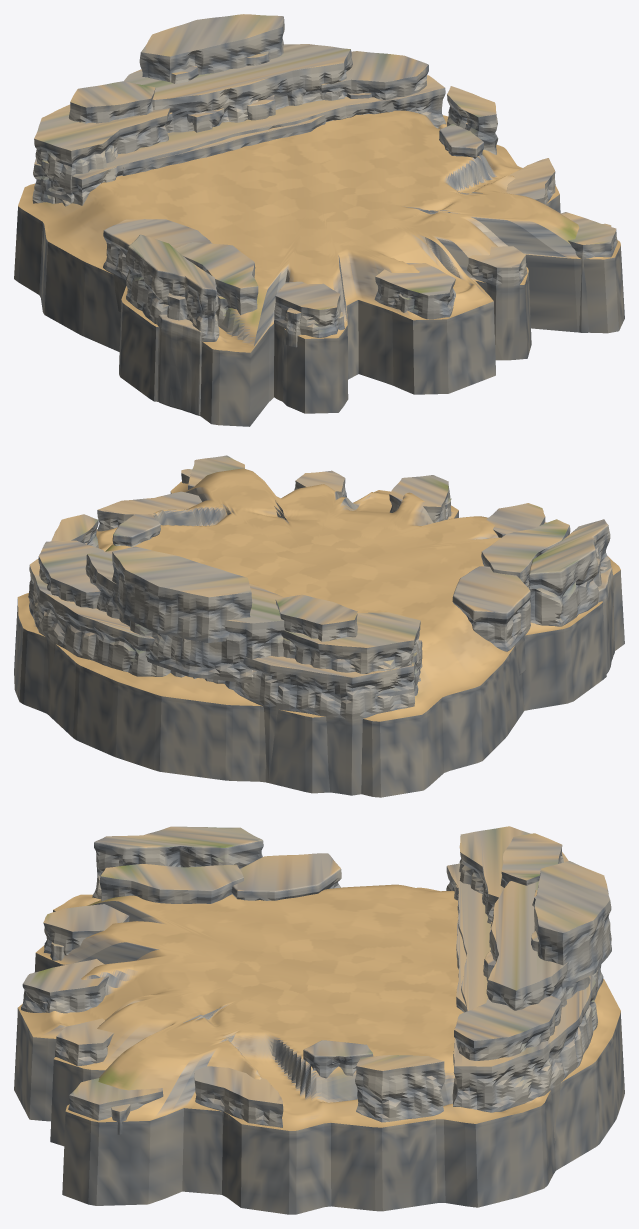
Rendered from projects-island-v2-r2-batched.glb.
The picture shows the model from 3 angles, top to bottom: view 1: azimuth 30°, elevation 25°; view 2: azimuth 150°, elevation 25°; view 3: azimuth 270°, elevation 25°; orthographic projection. The views are drawn at different scales.
Parts seen in each view (by area): view 1: Batched_1_ProjectsIsland_V2_HoneyEarth, Batched_0_ProjectsIsland_V2_Limestone; view 2: Batched_1_ProjectsIsland_V2_HoneyEarth, Batched_0_ProjectsIsland_V2_Limestone; view 3: Batched_1_ProjectsIsland_V2_HoneyEarth, Batched_0_ProjectsIsland_V2_Limestone.
Part boxes in pixels (box(x1,y1,x2,y2)): Batched_1_ProjectsIsland_V2_HoneyEarth: box(14, 110, 624, 426); Batched_0_ProjectsIsland_V2_Limestone: box(32, 14, 617, 415); Batched_1_ProjectsIsland_V2_HoneyEarth: box(14, 468, 624, 797); Batched_0_ProjectsIsland_V2_Limestone: box(28, 455, 614, 795); Batched_1_ProjectsIsland_V2_HoneyEarth: box(14, 884, 624, 1214); Batched_0_ProjectsIsland_V2_Limestone: box(21, 826, 611, 1142).
Bounding box in the file's own units: 68.72 × 25.7 × 70.88.
